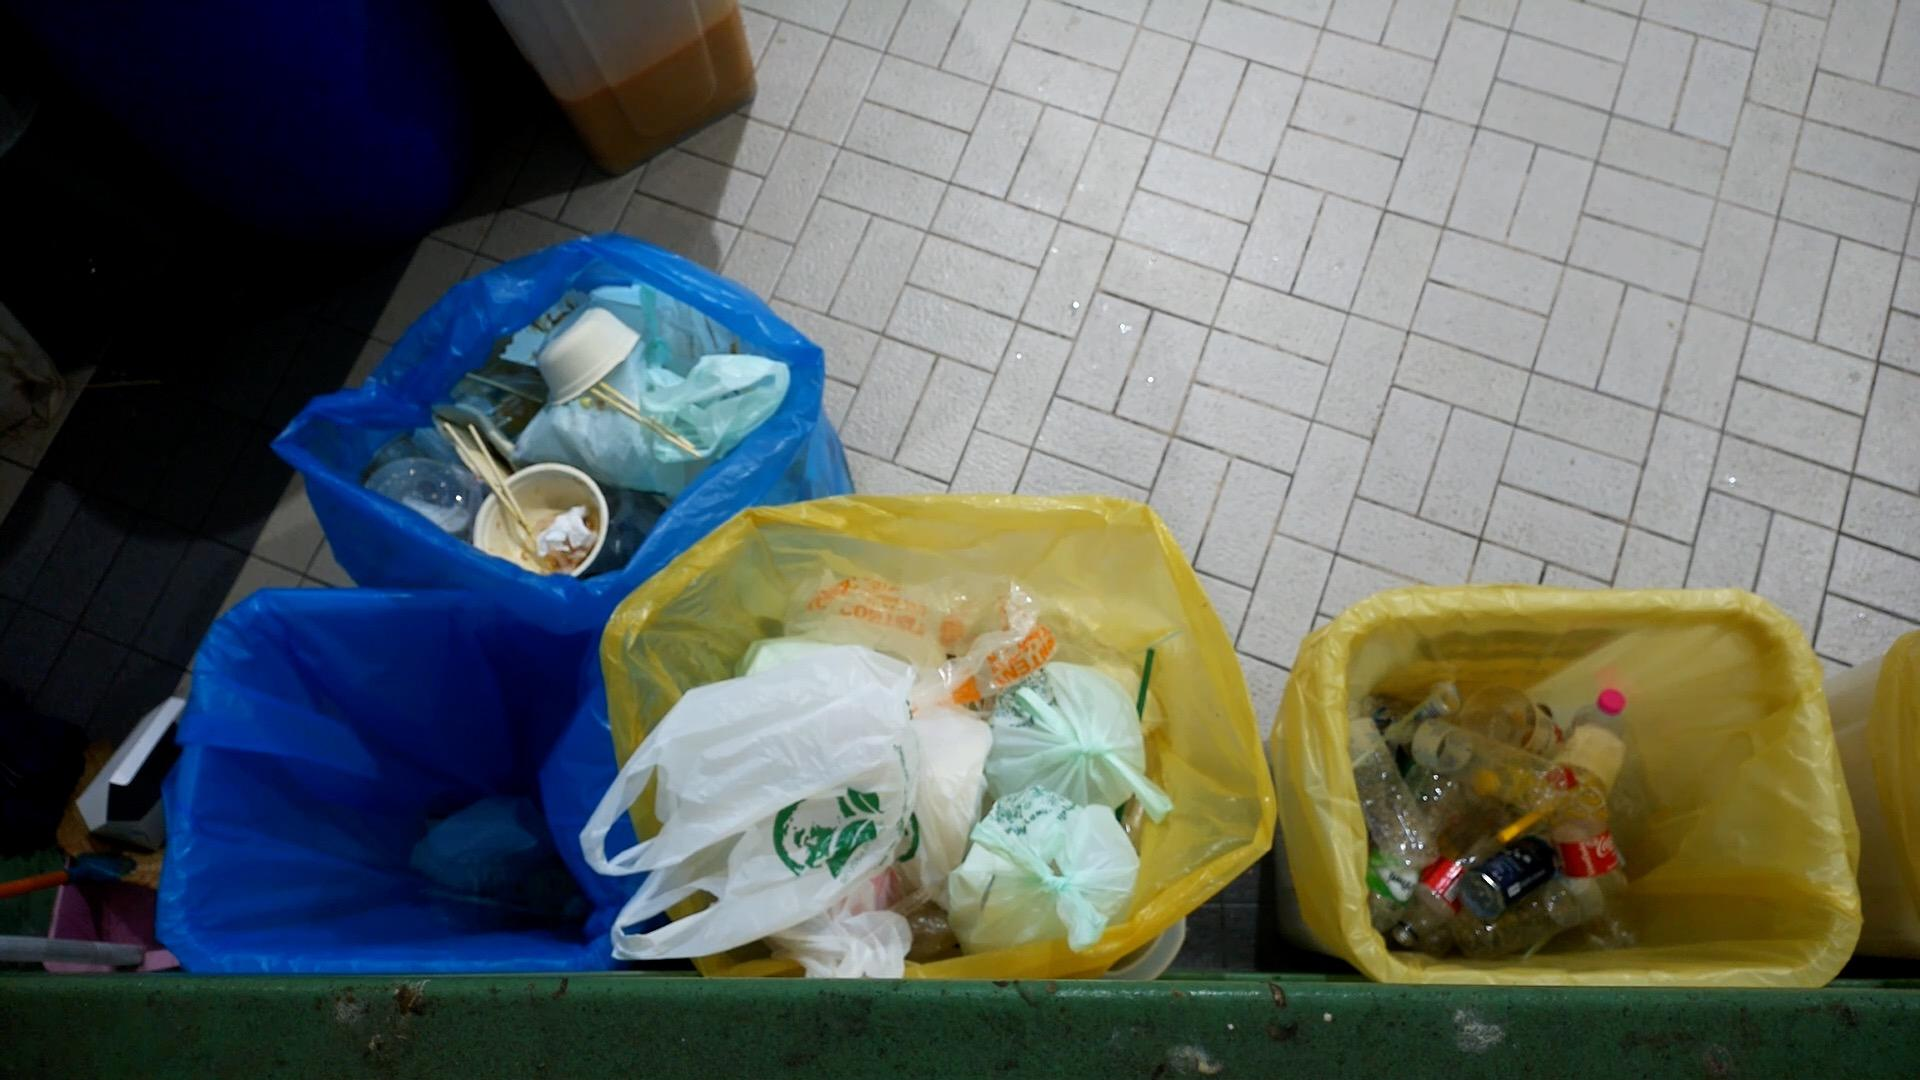filled plastic bag: (580, 642, 910, 965), (943, 787, 1142, 952), (982, 661, 1167, 825)
food container: (472, 463, 611, 580), (535, 307, 645, 407)
plastic bag: (647, 349, 795, 452)
plastic bottle: (1543, 757, 1650, 955), (1387, 715, 1575, 820), (1340, 690, 1428, 877), (1385, 832, 1493, 955)
plastic cup: (1523, 712, 1638, 845)
sticks: (444, 419, 542, 550), (589, 377, 700, 455)
straw: (1495, 790, 1565, 840)
tissue paper: (542, 505, 600, 550)
